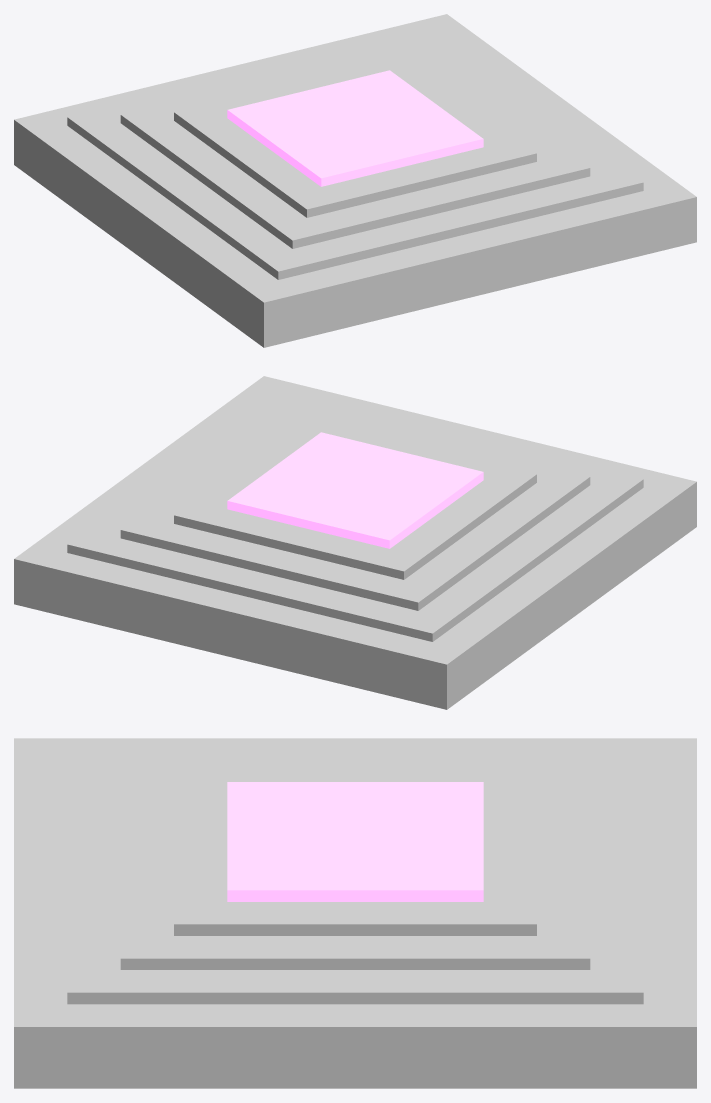
The model's file is PrismaticFrisbee.fbx.
3 views of the same model, one above another, from view 1: azimuth 30°, elevation 25°; view 2: azimuth 150°, elevation 25°; view 3: azimuth 270°, elevation 25° (orthographic). The views are drawn at different scales.
Parts seen in each view (by area): view 1: Prismatic Frisbee_body_0, Prismatic Frisbee_body_1, Prismatic Frisbee_body_2, Prismatic Frisbee_body_4, Prismatic Frisbee_body_3; view 2: Prismatic Frisbee_body_0, Prismatic Frisbee_body_1, Prismatic Frisbee_body_2, Prismatic Frisbee_body_4, Prismatic Frisbee_body_3; view 3: Prismatic Frisbee_body_0, Prismatic Frisbee_body_1, Prismatic Frisbee_body_2, Prismatic Frisbee_body_4, Prismatic Frisbee_body_3.
Part boxes in pixels (box(x1,y1,x2,y2)): Prismatic Frisbee_body_0: box(14, 14, 696, 347); Prismatic Frisbee_body_1: box(67, 28, 643, 279); Prismatic Frisbee_body_2: box(120, 42, 590, 248); Prismatic Frisbee_body_4: box(227, 70, 483, 186); Prismatic Frisbee_body_3: box(174, 56, 536, 217); Prismatic Frisbee_body_0: box(14, 376, 696, 709); Prismatic Frisbee_body_1: box(67, 390, 643, 641); Prismatic Frisbee_body_2: box(120, 404, 590, 610); Prismatic Frisbee_body_4: box(227, 432, 483, 548); Prismatic Frisbee_body_3: box(174, 418, 536, 579); Prismatic Frisbee_body_0: box(14, 738, 696, 1088); Prismatic Frisbee_body_1: box(67, 749, 643, 1004); Prismatic Frisbee_body_2: box(120, 760, 590, 969); Prismatic Frisbee_body_4: box(227, 782, 483, 901); Prismatic Frisbee_body_3: box(174, 771, 536, 935).
Size of the model in its own units: 160 by 28 by 160.
